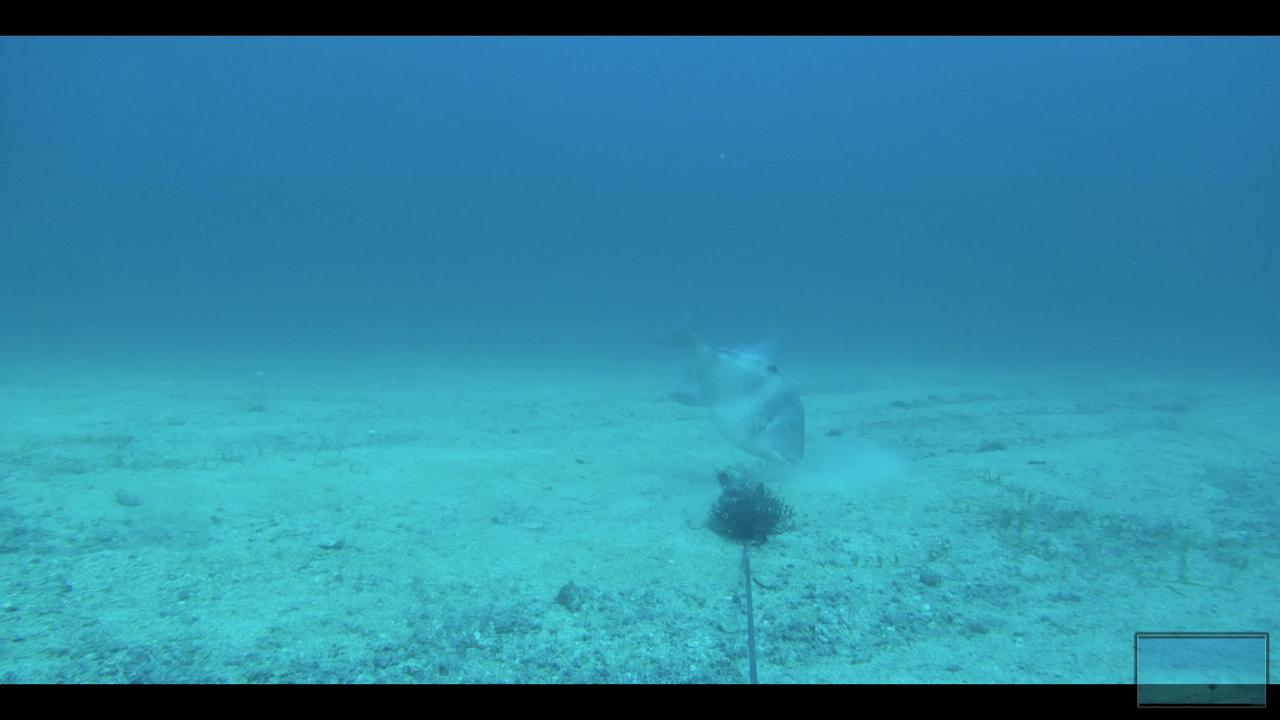balistes: (642, 294, 813, 472)
